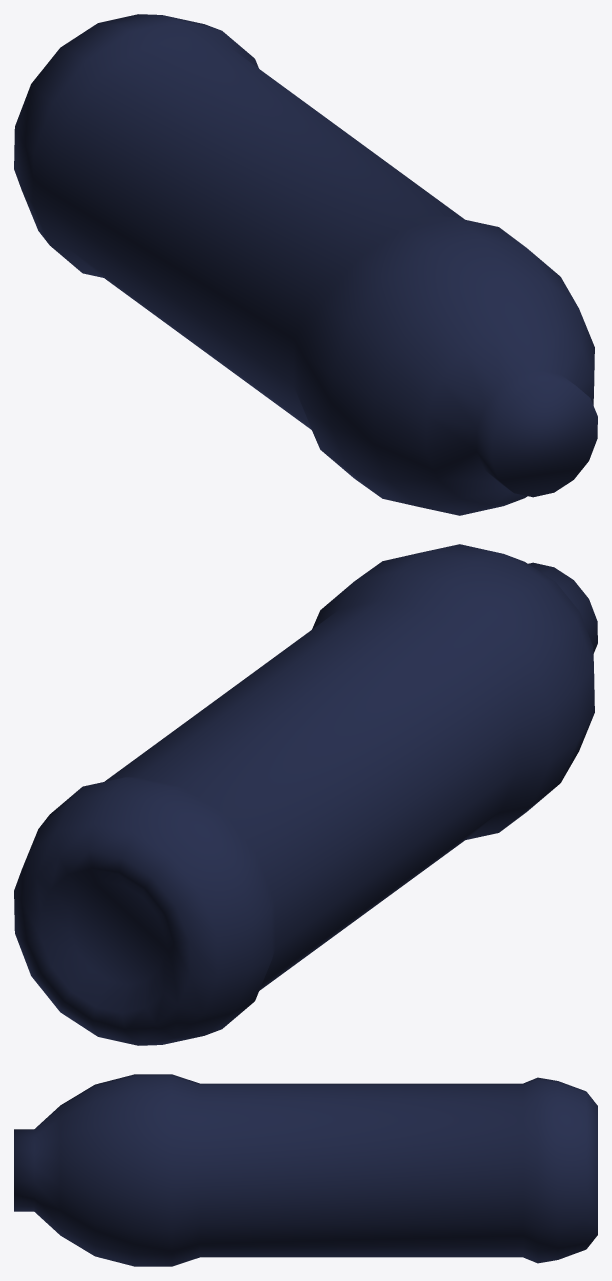
3 views of the same model, one above another, from view 1: azimuth 30°, elevation 25°; view 2: azimuth 150°, elevation 25°; view 3: azimuth 270°, elevation 25° (orthographic). The views are drawn at different scales.
Bounding box in the file's own units: 0.2775 × 0.2775 × 0.8469.
